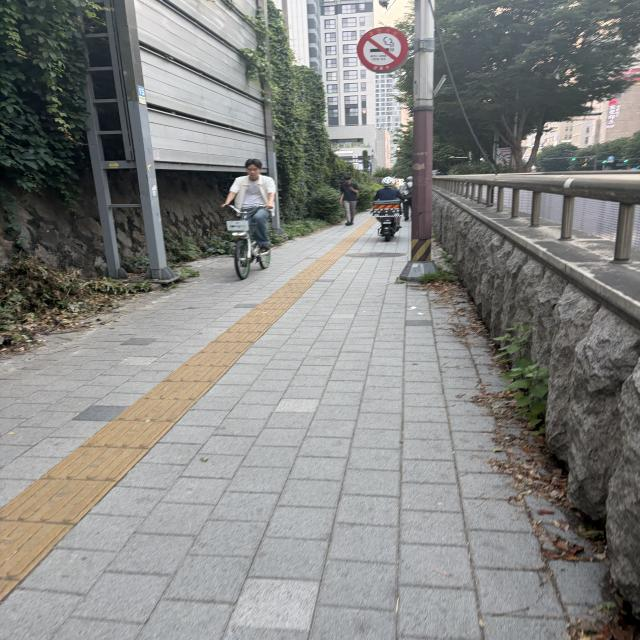bicycle: (209, 152, 288, 282)
